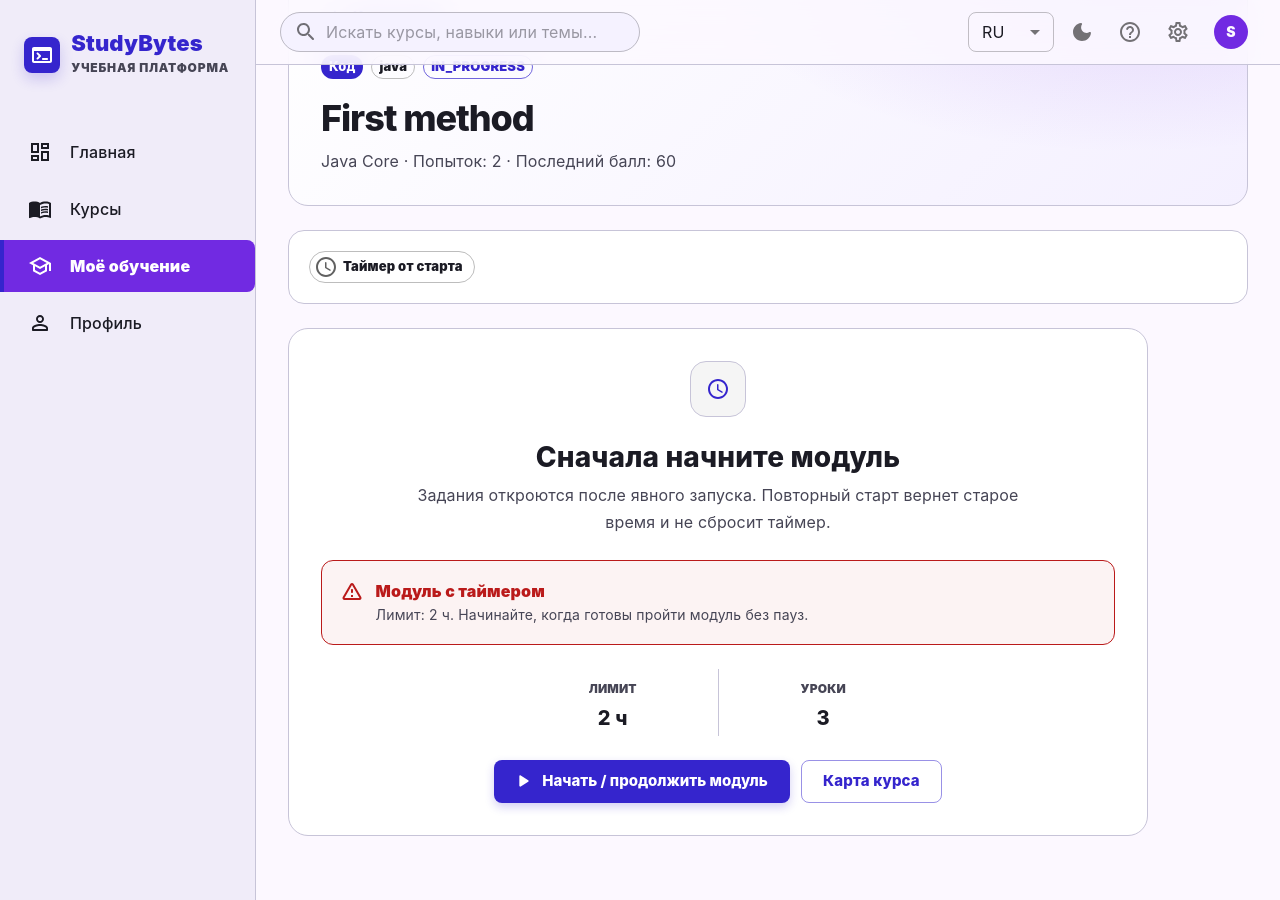
Test case: StudyBytes role-based behavior › gates direct access to timed module items until explicit module start
(page scrolled)
expect the heading "Сначала начните модуль" is shown: met, box [536, 440, 900, 474]
Click the button "Начать / продолжить модуль": x=642, y=782 [494, 760, 790, 803]
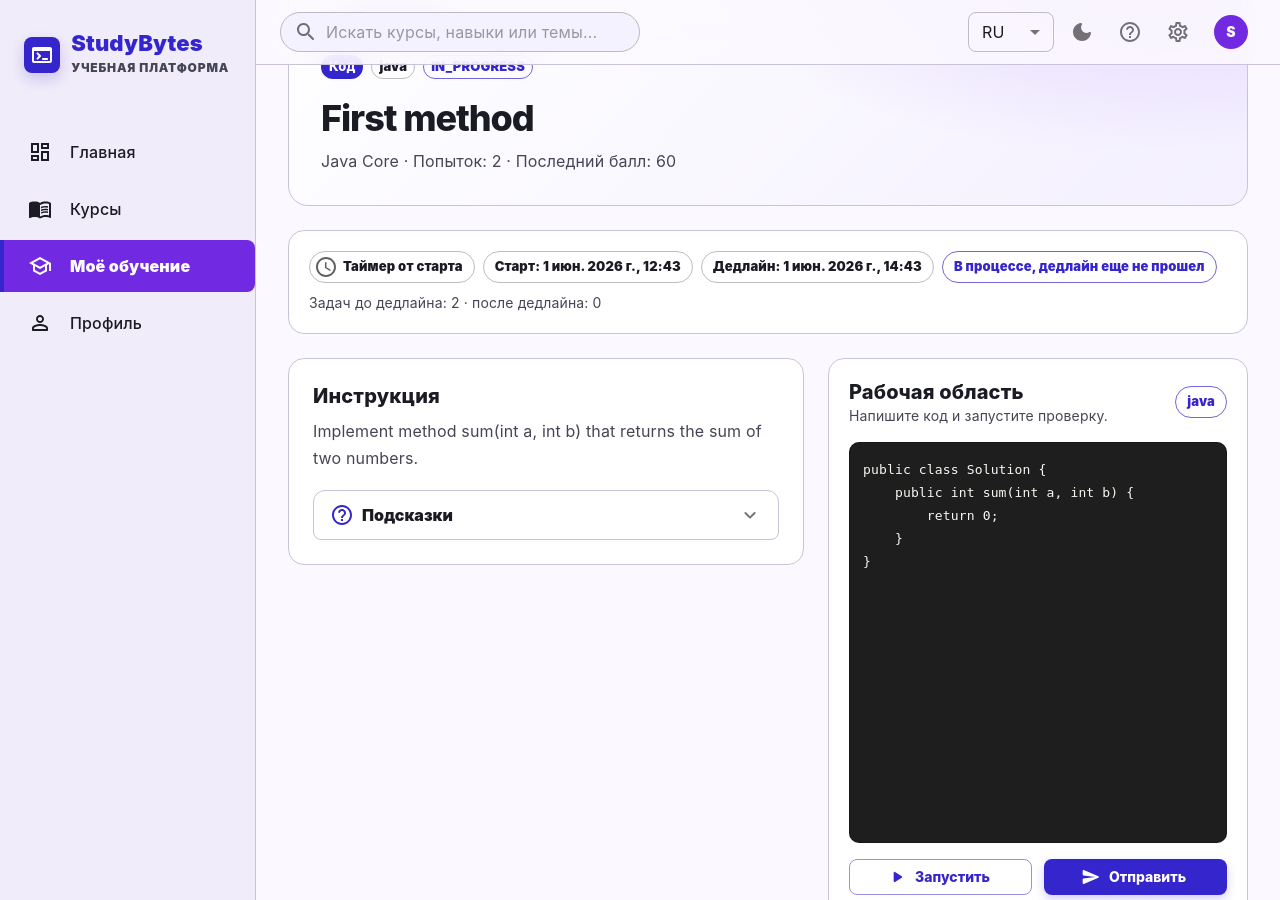
expect the heading "Инструкция" is shown: met, box [313, 384, 440, 408]
